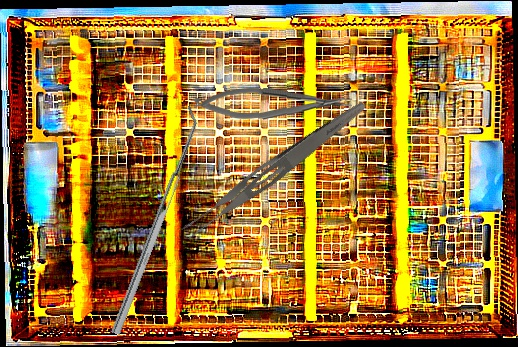Dressing Forceps: (177, 92, 370, 245)
Needle Holder: (193, 85, 353, 123)
Spatula Surgical: (102, 105, 206, 336)
